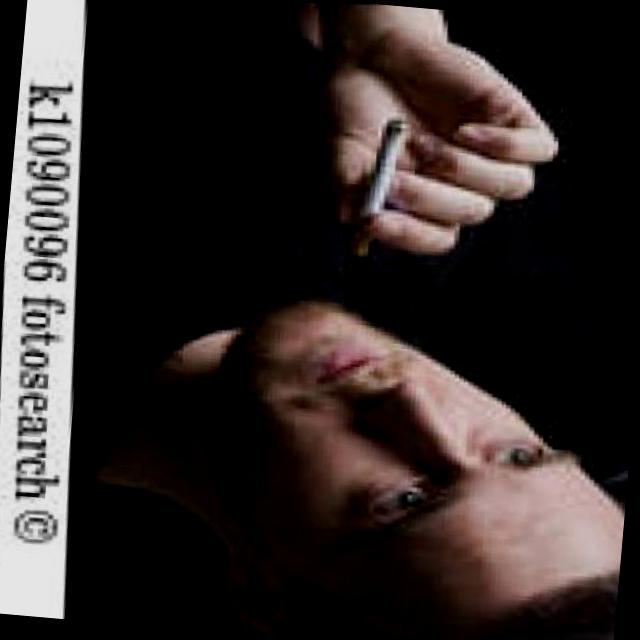cigarette: (330, 110, 416, 261)
